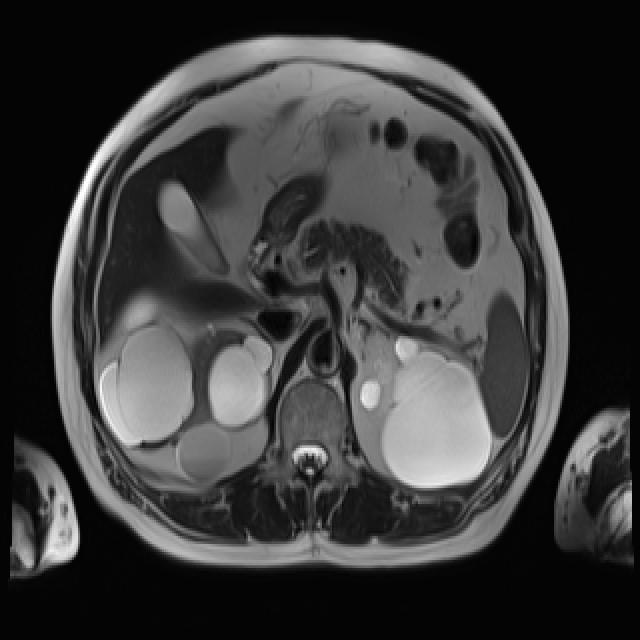sag: (99, 289, 276, 484)
sol: (357, 331, 493, 490)
